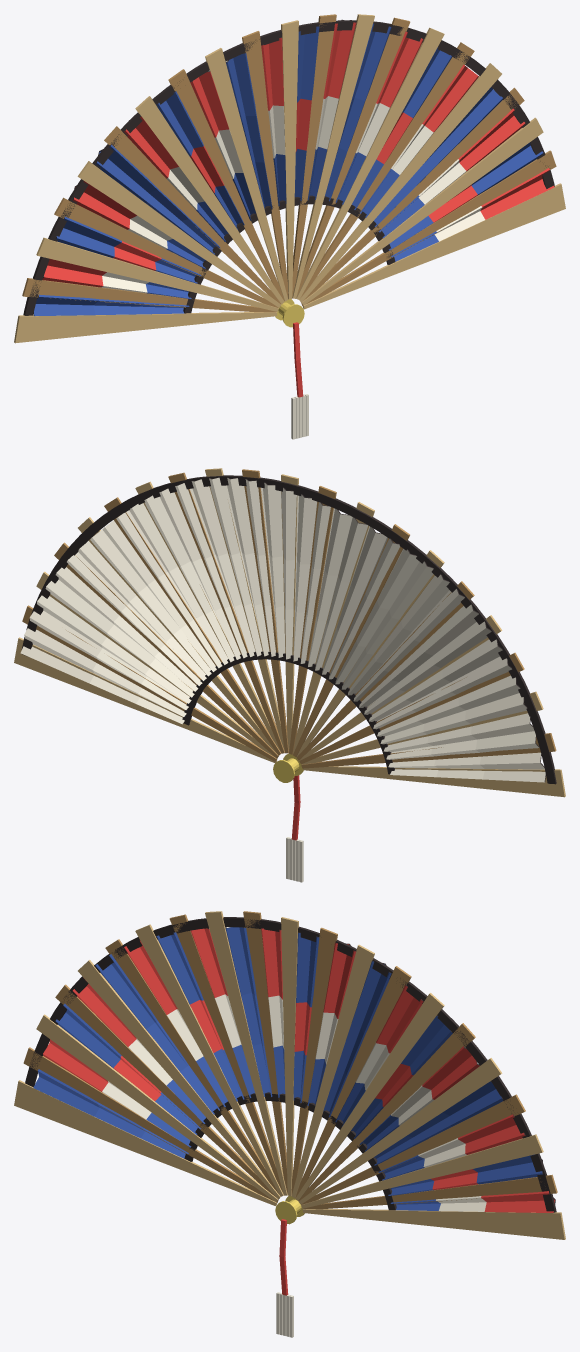
File: craft_sensu.glb
3 views of the same model, one above another, from view 1: azimuth 30°, elevation 25°; view 2: azimuth 150°, elevation 25°; view 3: azimuth 330°, elevation 25° (orthographic).
Visible parts, largest first — view 1: BambooRibs, PleatedLeaf, DarkEdgeTrim, ScarletTassel, PivotRivet; view 2: PleatedLeaf, BambooRibs, DarkEdgeTrim, ScarletTassel, PivotRivet; view 3: BambooRibs, PleatedLeaf, DarkEdgeTrim, ScarletTassel, PivotRivet.
Part boxes in pixels (left/top/right/bottom): BambooRibs: left=14, top=14, right=565, bottom=343; PleatedLeaf: left=33, top=19, right=554, bottom=316; DarkEdgeTrim: left=23, top=20, right=554, bottom=315; ScarletTassel: left=291, top=322, right=308, bottom=439; PivotRivet: left=275, top=299, right=304, bottom=327; PleatedLeaf: left=20, top=477, right=545, bottom=782; BambooRibs: left=14, top=468, right=565, bottom=797; DarkEdgeTrim: left=21, top=475, right=556, bottom=784; ScarletTassel: left=286, top=775, right=303, bottom=882; PivotRivet: left=273, top=753, right=303, bottom=782; BambooRibs: left=14, top=911, right=565, bottom=1239; PleatedLeaf: left=33, top=927, right=555, bottom=1212; DarkEdgeTrim: left=25, top=917, right=556, bottom=1212; ScarletTassel: left=276, top=1219, right=293, bottom=1337; PivotRivet: left=275, top=1196, right=304, bottom=1224.
Size of the model in its own units: 1.95 by 1.39 by 0.0905.
